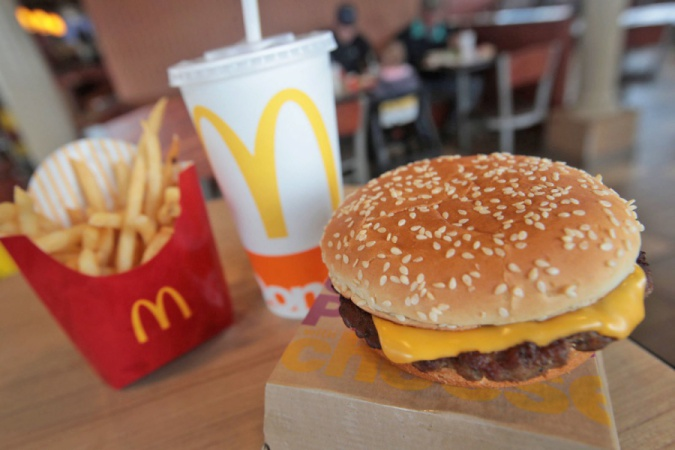mcdonalds: (116, 278, 201, 347)
